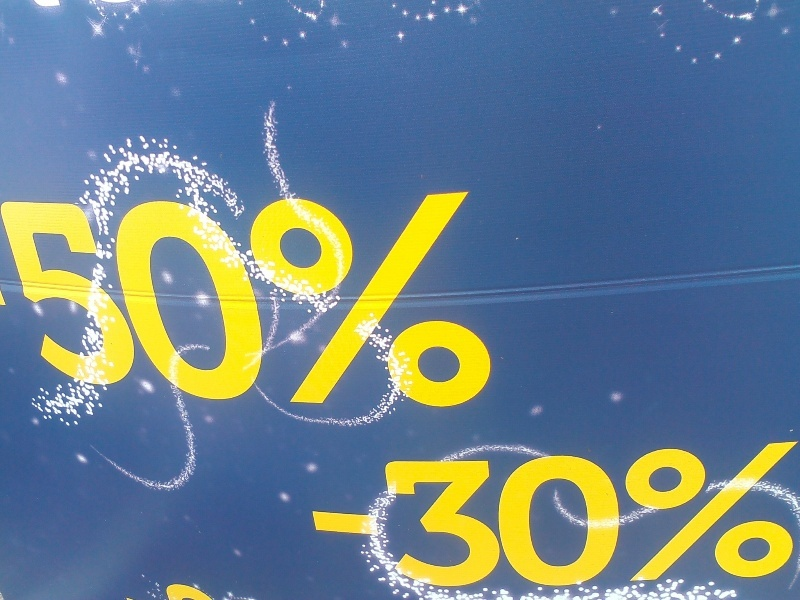text: (17, 192, 32, 416), (33, 192, 48, 416), (49, 192, 64, 416), (65, 192, 80, 416), (81, 192, 96, 416), (97, 192, 112, 416), (113, 192, 128, 416), (129, 192, 144, 416), (145, 192, 160, 416), (161, 192, 176, 416), (177, 192, 192, 416), (193, 192, 208, 416), (209, 192, 224, 416), (225, 192, 240, 416), (241, 192, 256, 416), (257, 192, 272, 416), (273, 192, 288, 416), (289, 192, 304, 416), (305, 192, 320, 416), (321, 192, 336, 416), (337, 192, 352, 416), (353, 192, 368, 416), (369, 192, 384, 416), (385, 192, 400, 416), (401, 192, 416, 416), (417, 192, 432, 416), (433, 192, 448, 416), (449, 192, 464, 416), (465, 192, 480, 416), (481, 192, 496, 416), (497, 192, 512, 416), (2, 192, 16, 416), (321, 436, 336, 591), (337, 436, 352, 591), (353, 436, 368, 591), (369, 436, 384, 591), (385, 436, 400, 591), (401, 436, 416, 591), (417, 436, 432, 591), (433, 436, 448, 591), (449, 436, 464, 591), (465, 436, 480, 591), (481, 436, 496, 591), (497, 436, 512, 591), (513, 436, 528, 591), (529, 436, 544, 591), (545, 436, 560, 591), (561, 436, 576, 591), (577, 436, 592, 591), (593, 436, 608, 591), (609, 436, 624, 591), (625, 436, 640, 591), (641, 436, 656, 591), (657, 436, 672, 591), (673, 436, 688, 591), (689, 436, 704, 591), (705, 436, 720, 591), (721, 436, 736, 591), (737, 436, 752, 591), (753, 436, 768, 591), (769, 436, 784, 591), (785, 436, 799, 591), (311, 436, 320, 591), (513, 192, 516, 416)
